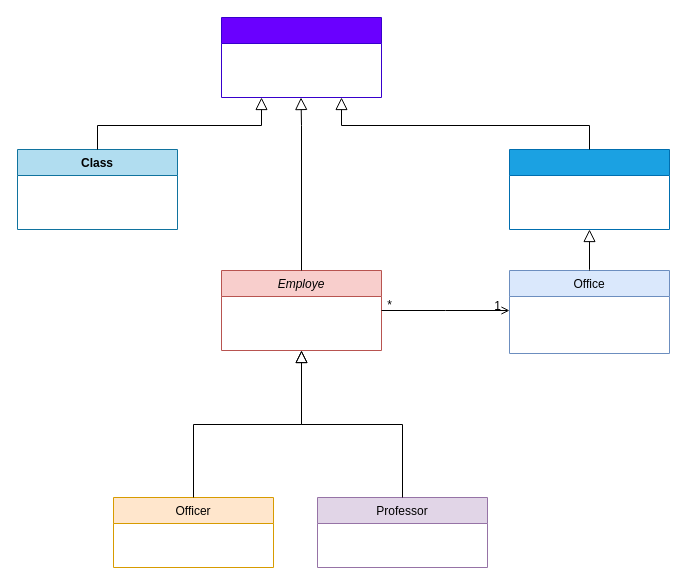
This 687x585 diagram has some shape labels left out. The shapes that lost their labels are listed below. From the top down, each one's centre as x and y in pixels, then its label:
At point 301,57: "Universty".
At point 589,189: "Department".
